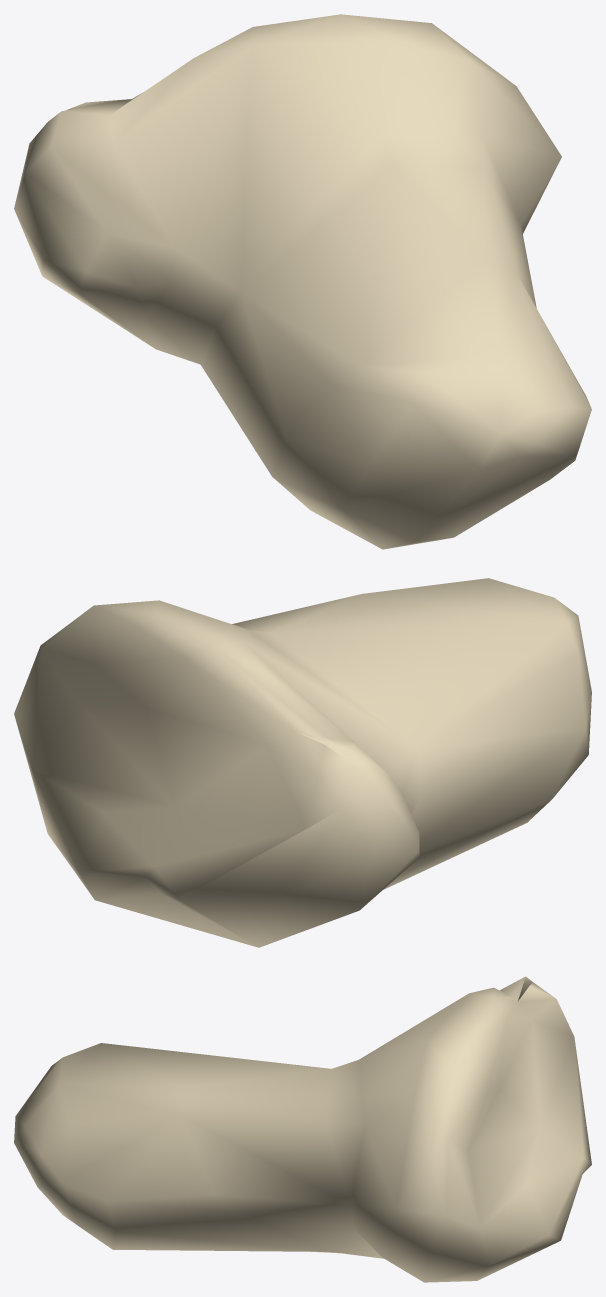
Rendered from esqueleto-distal-phalanx-of-third-finger-of-foot-r.glb.
3 views of the same model, one above another, from view 1: azimuth 30°, elevation 25°; view 2: azimuth 150°, elevation 25°; view 3: azimuth 270°, elevation 25° (orthographic). The views are drawn at different scales.
Visible parts, largest first — view 1: Distal phalanx of third finger of foot.r; view 2: Distal phalanx of third finger of foot.r; view 3: Distal phalanx of third finger of foot.r.
Part boxes in pixels (x1,y1,x2,y2): Distal phalanx of third finger of foot.r: (14,14,591,549); Distal phalanx of third finger of foot.r: (14,578,591,947); Distal phalanx of third finger of foot.r: (14,976,591,1282).
Size of the model in its own units: 0.00885 by 0.00616 by 0.012.
